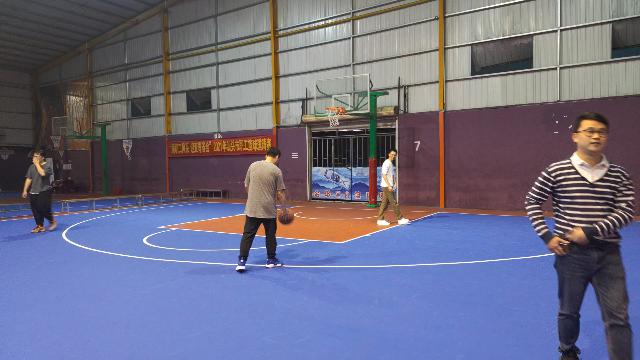ball: (278, 210, 292, 224)
basket: (325, 106, 343, 124)
